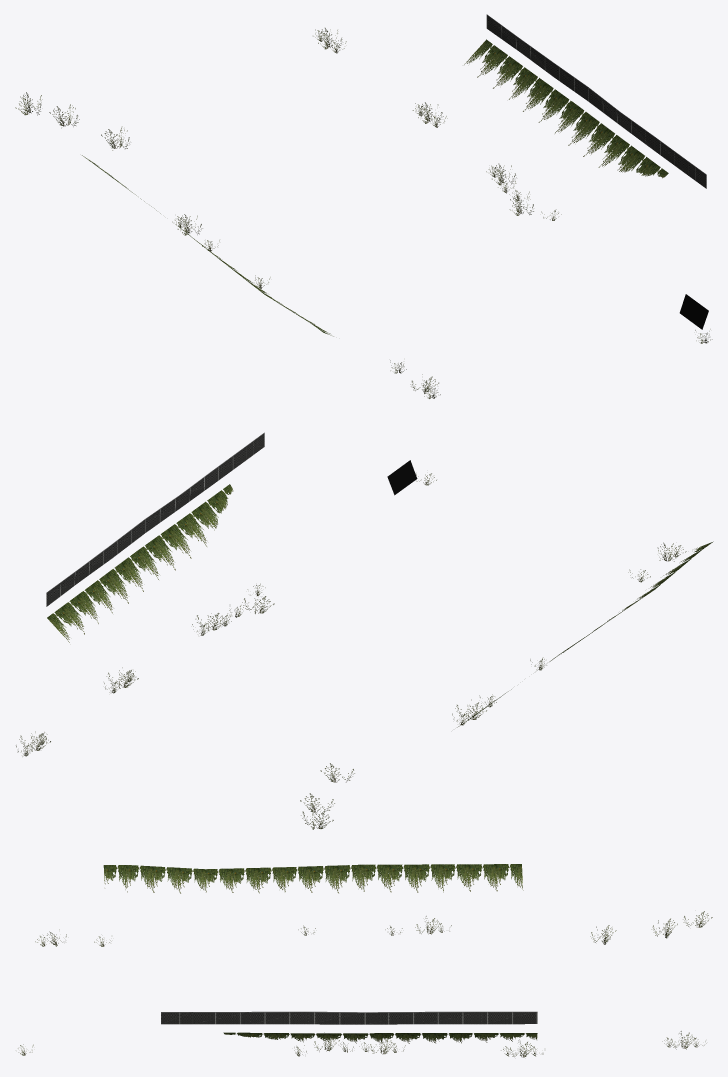
Rendered from stormd_fillb.obj.
3 renders of one model, top to bottom at view 1: azimuth 30°, elevation 25°; view 2: azimuth 150°, elevation 25°; view 3: azimuth 270°, elevation 25°, orthographic. The views are drawn at different scales.
Parts seen in each view (by area): view 1: stormd_fillb; view 2: stormd_fillb; view 3: stormd_fillb.
Part boxes in pixels (x1,y1,x2,y2): stormd_fillb: [15, 14, 712, 398]; stormd_fillb: [16, 432, 713, 829]; stormd_fillb: [18, 864, 712, 1057].
Size of the model in its own units: 83.74 by 17.67 by 142.
